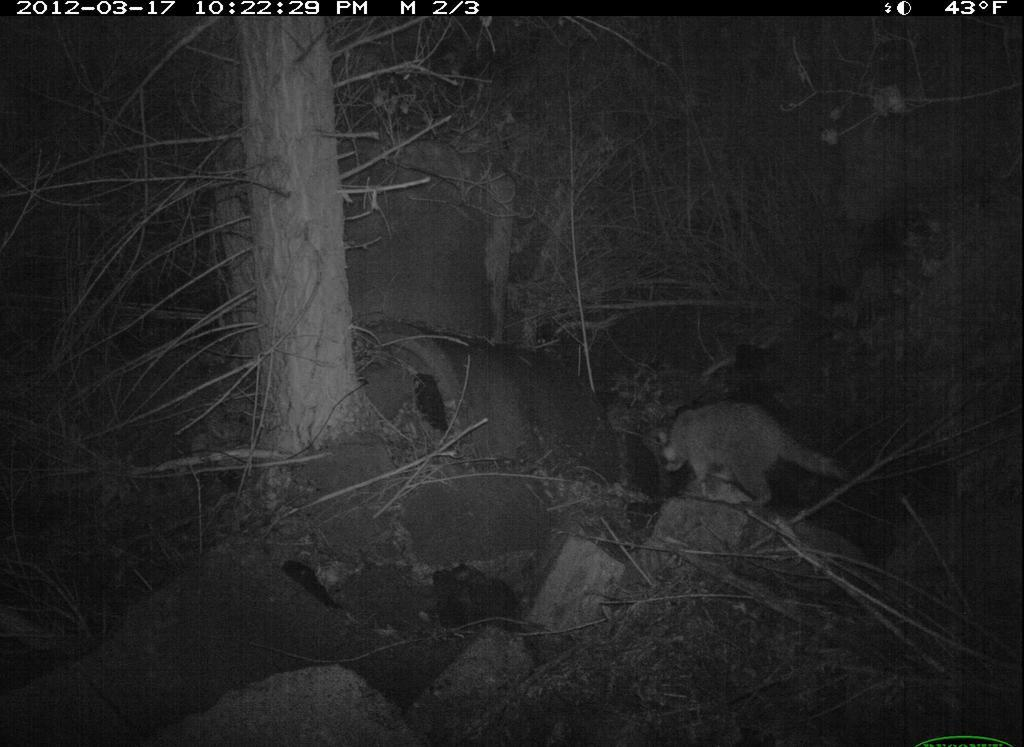raccoon: (651, 395, 867, 536)
